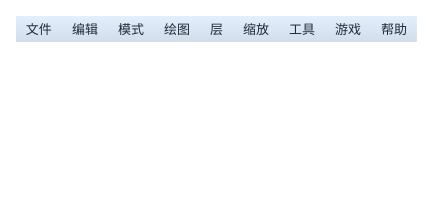
Test case: Menu 层菜单:备注编辑/新增/删除 › 新增的层同样带删除按钮
The image size is (434, 209).
Click the button with class "menu-dropdown-title" showing "层": (216, 29) [200, 16, 233, 42]
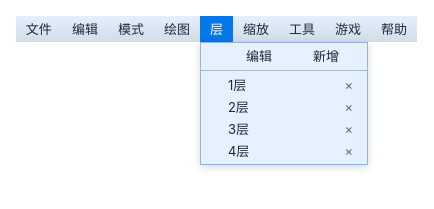
Click the menu item with class "menu-entry" showing "新增": (326, 56) [313, 48, 339, 64]
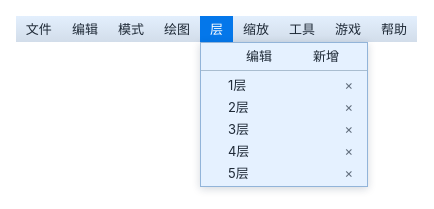
Result: the button with class "menu-entry-delete" next to "5层" is shown at [341, 165, 357, 181]
